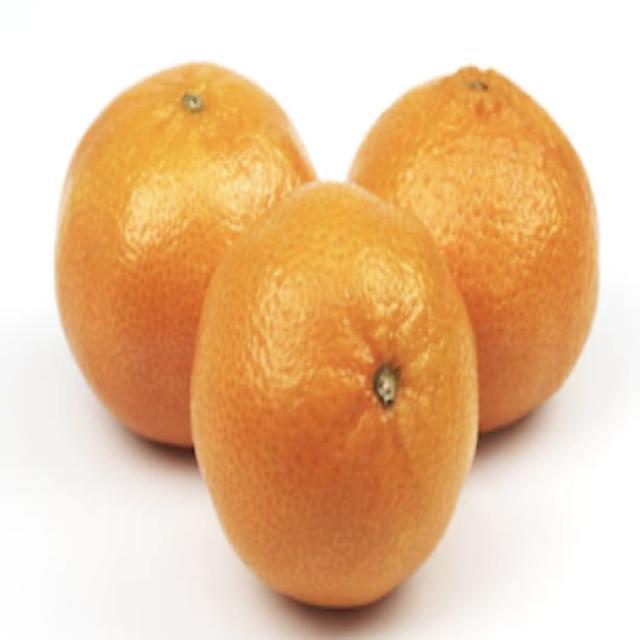Orange: (187, 179, 480, 610), (53, 60, 317, 449), (345, 63, 599, 435)
